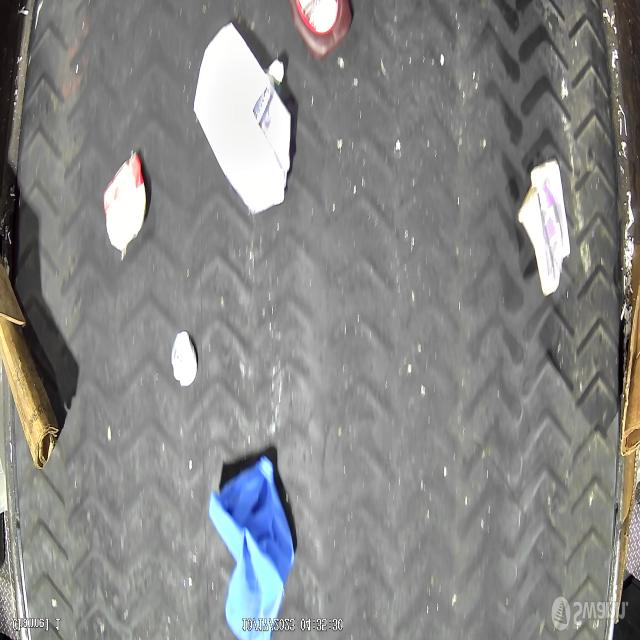non_white_jug: (208, 451, 296, 638), (288, 0, 352, 62)
